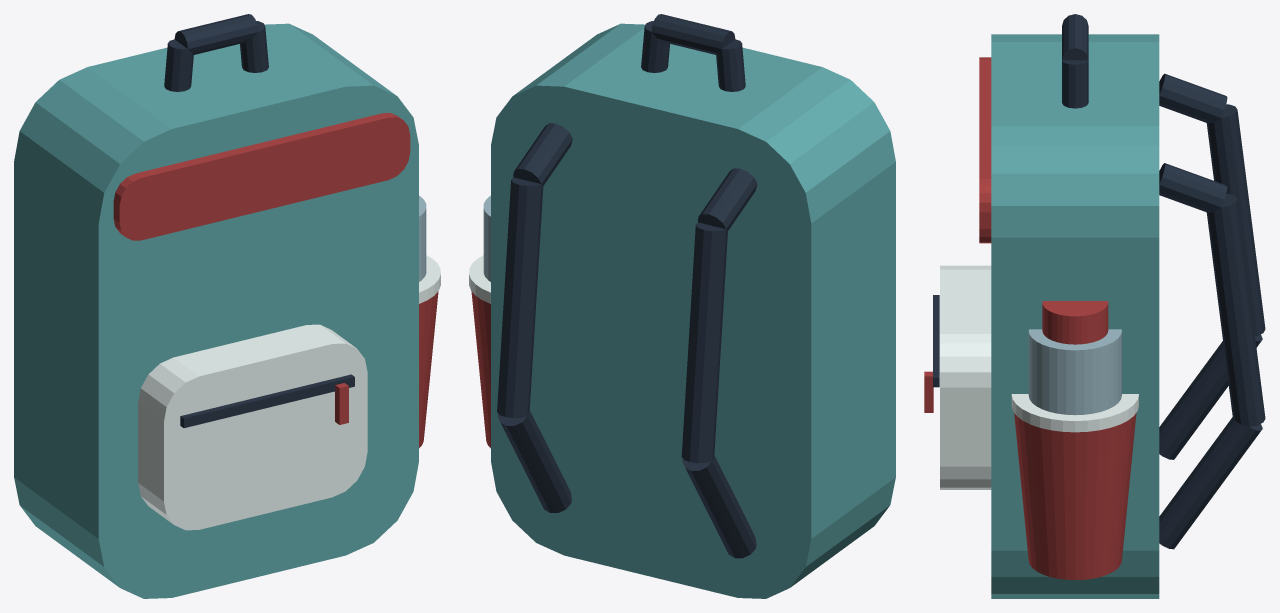
The model's file is backpack.glb.
3 renders of one model, left to right at view 1: azimuth 30°, elevation 25°; view 2: azimuth 150°, elevation 25°; view 3: azimuth 270°, elevation 25°, orthographic.
Visible parts, largest first — view 1: fabric shell, front pocket, lid binding, zip, carry loop1, side pocket, carry loop0, carry loop2, pocket rim, bottle neck, zip pull; view 2: fabric shell, strap -0.341, strap 0.341, strap -0.342, strap 0.342, carry loop1, strap -0.340, strap 0.340, side pocket, carry loop0, carry loop2, pocket rim (+1 smaller); view 3: fabric shell, side pocket, front pocket, strap 0.341, bottle neck, strap 0.342, strap -0.341, strap -0.342, cap, pocket rim, lid binding, strap -0.340 (+4 smaller).
Part boxes in pixels (box(x1,y1,x2,y2)): fabric shell: box(14, 23, 418, 598); front pocket: box(138, 324, 367, 530); lid binding: box(113, 113, 410, 240); zip: box(180, 374, 354, 428); carry loop1: box(174, 14, 258, 54); side pocket: box(419, 291, 438, 448); carry loop0: box(164, 39, 193, 91); carry loop2: box(240, 21, 268, 72); pocket rim: box(419, 255, 440, 303); bottle neck: box(419, 195, 426, 281); zip pull: box(335, 383, 348, 424); fabric shell: box(491, 23, 895, 598); strap -0.341: box(681, 222, 727, 463); strap 0.341: box(497, 177, 543, 417); strap -0.342: box(682, 455, 756, 558); strap 0.342: box(497, 410, 571, 512); carry loop1: box(651, 14, 735, 54); strap -0.340: box(698, 168, 757, 230); strap 0.340: box(513, 123, 572, 185); side pocket: box(471, 291, 490, 448); carry loop0: box(716, 39, 745, 91); carry loop2: box(641, 21, 669, 72); pocket rim: box(469, 255, 490, 303); fabric shell: box(991, 34, 1159, 598); side pocket: box(1014, 413, 1136, 580); front pocket: box(940, 265, 991, 489); strap 0.341: box(1206, 194, 1265, 427); bottle neck: box(1028, 329, 1121, 415); strap 0.342: box(1159, 417, 1262, 549); strap -0.341: box(1206, 104, 1265, 336); strap -0.342: box(1159, 334, 1262, 459); cap: box(1042, 301, 1108, 344); pocket rim: box(1011, 394, 1138, 432); lid binding: box(979, 57, 991, 243); strap -0.340: box(1159, 73, 1227, 123).
Size of the model in its own units: 1.38 by 1.84 by 1.1.
